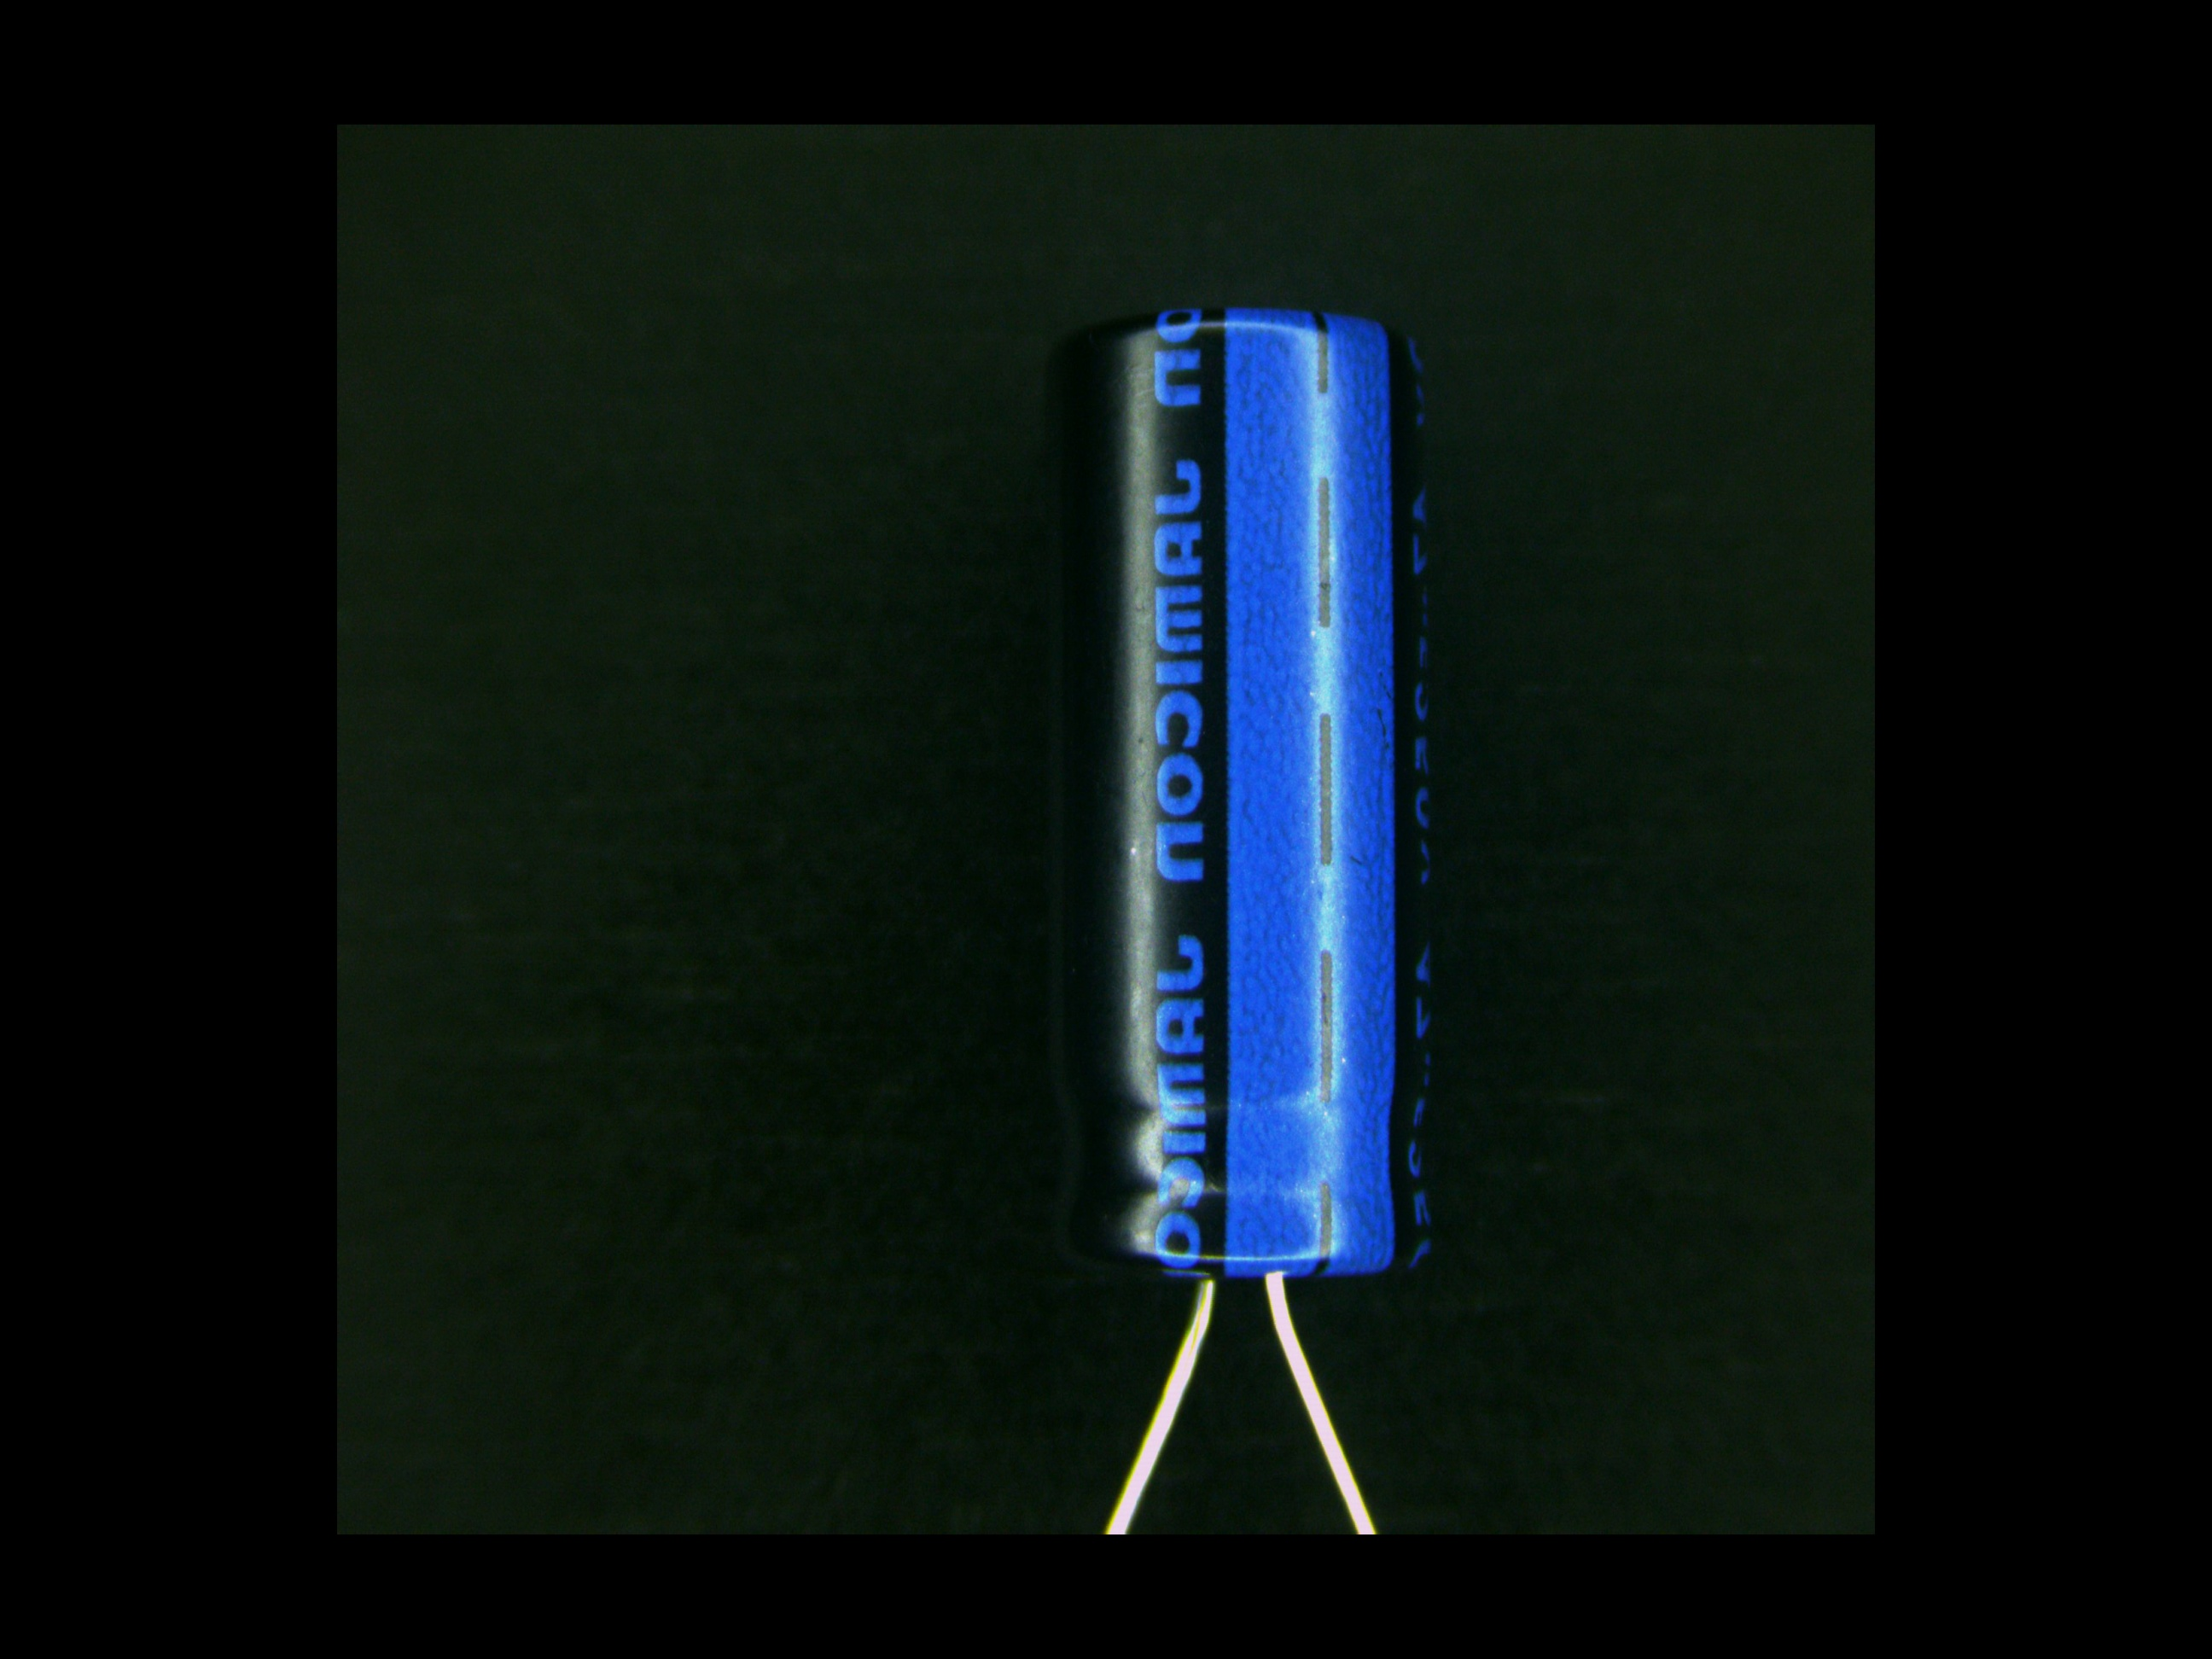c2: (1043, 301, 1437, 1380)
